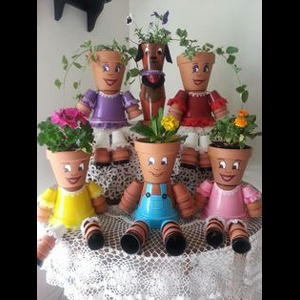flowerpot: (132, 136, 183, 183), (44, 145, 94, 188), (207, 139, 252, 186), (176, 48, 216, 91), (88, 48, 125, 91), (139, 38, 168, 71)
